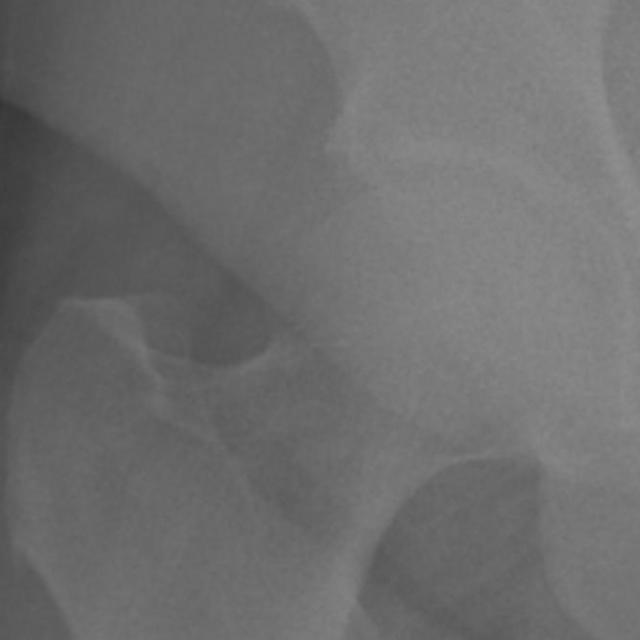Fitted_femural_head: (313, 175, 432, 313)
